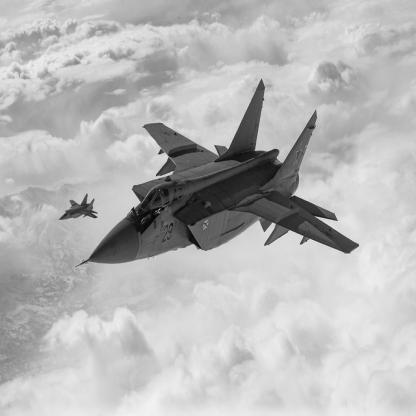Mig31: (76, 79, 361, 269), (58, 194, 99, 222)
